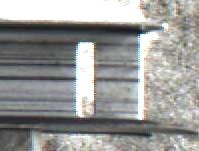40ngpress: (43, 19, 159, 132)
